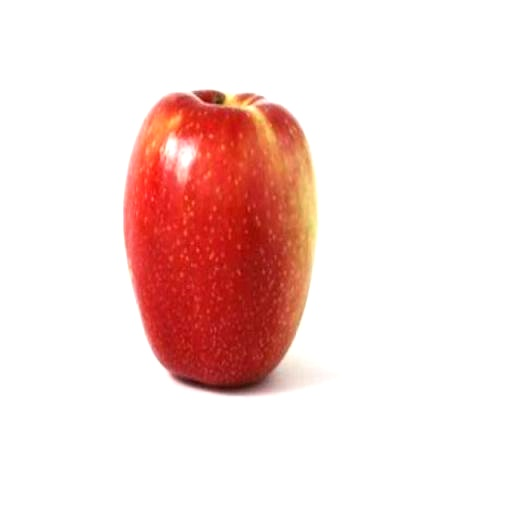fruit: (124, 91, 316, 385)
